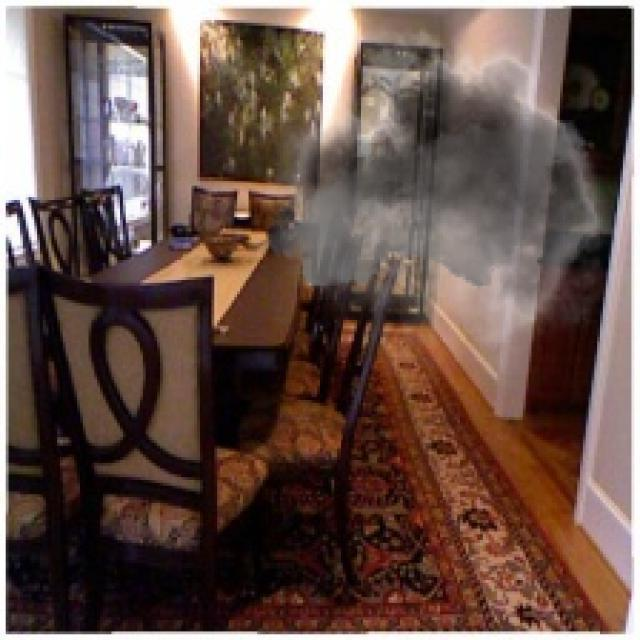Smoke: (266, 9, 626, 388)
